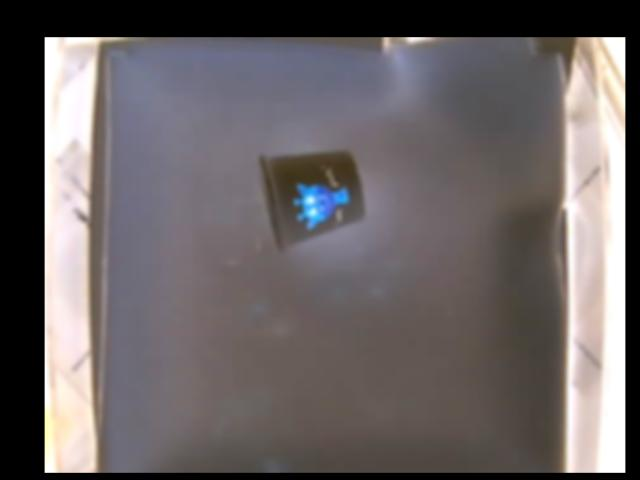Cup: (256, 147, 363, 250)
